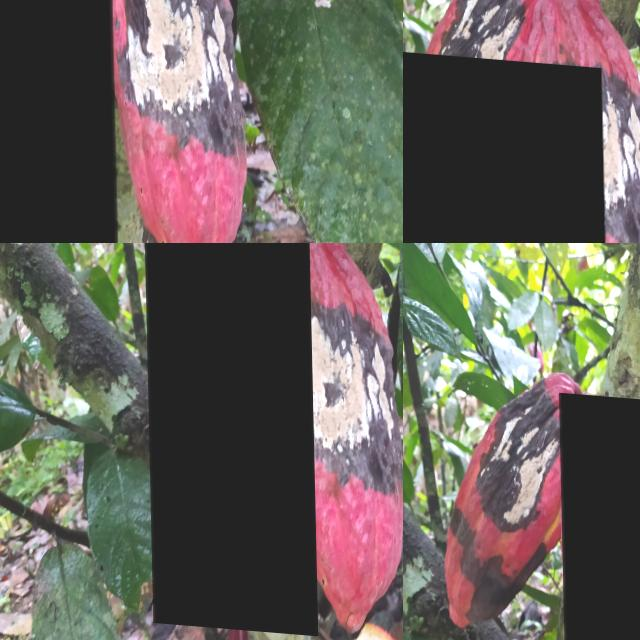Monilia: (141, 243, 315, 630), (439, 368, 579, 630), (558, 387, 640, 640)
Sana: (403, 44, 604, 243), (0, 0, 116, 243)
